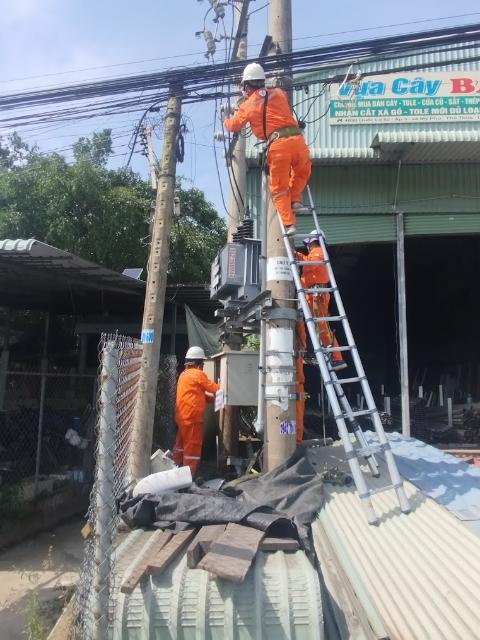harness: (252, 127, 311, 142), (298, 278, 333, 296)
helmet: (236, 59, 268, 87), (181, 343, 211, 365), (302, 225, 327, 246)
shoes: (326, 353, 352, 372), (288, 200, 315, 214), (281, 223, 297, 239)
